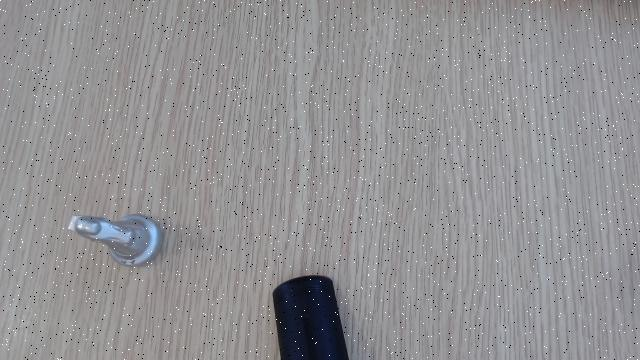white_knight: (68, 212, 163, 269)
